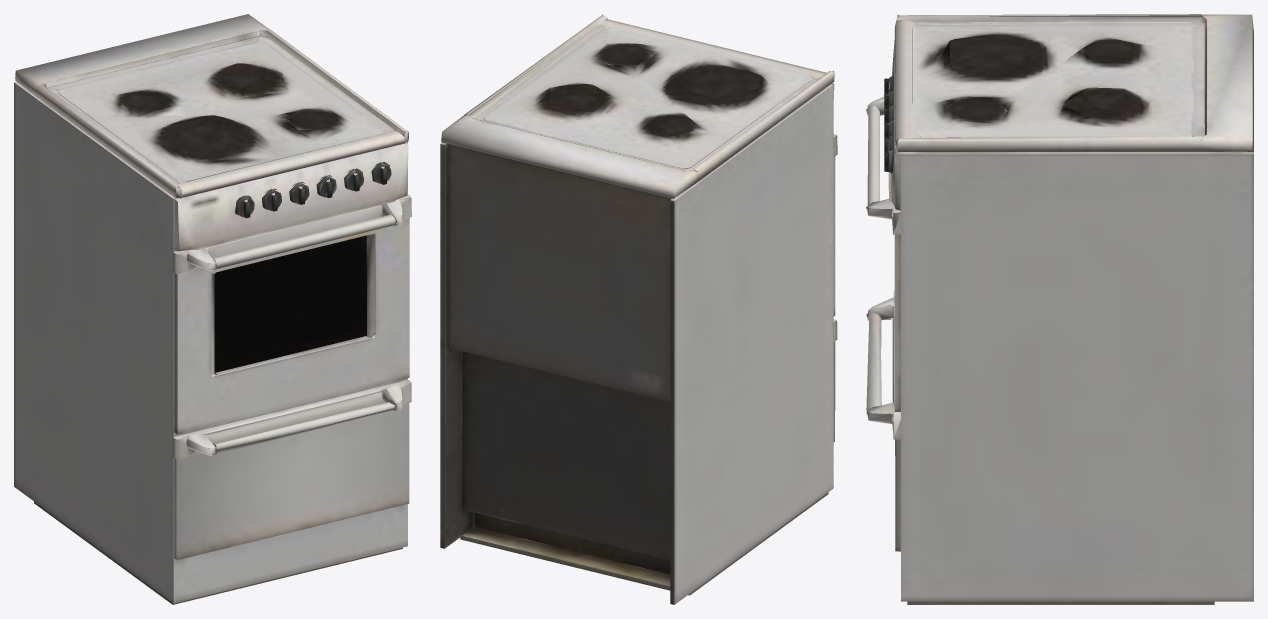
File: electric_stove.glb
The picture shows the model from 3 angles, left to right: view 1: azimuth 30°, elevation 25°; view 2: azimuth 150°, elevation 25°; view 3: azimuth 270°, elevation 25°; orthographic projection. The views are drawn at different scales.
Visible parts, largest first — view 1: stovetop; view 2: stovetop; view 3: stovetop.
Boxes of the visible parts, x1,y1,x2,y2 form: stovetop: (14, 14, 411, 604); stovetop: (440, 14, 837, 604); stovetop: (866, 14, 1253, 604).
Size of the model in its own units: 0.5026 by 0.8603 by 0.6475.
Materials: 2 (2 with a texture image).
